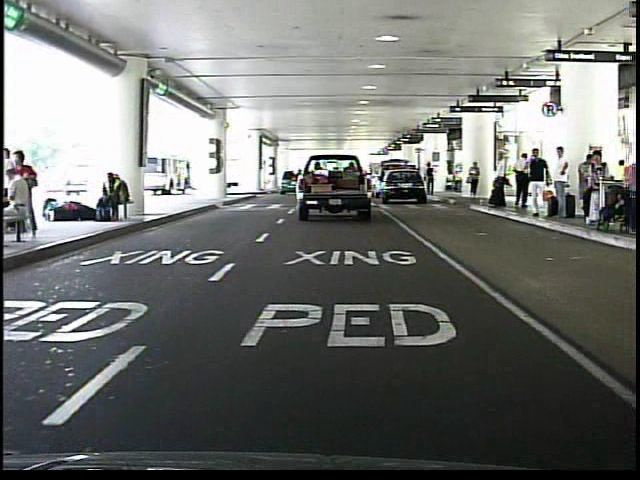person: (550, 143, 575, 227), (526, 146, 552, 223), (487, 150, 512, 214), (465, 160, 481, 202), (424, 159, 436, 197)
